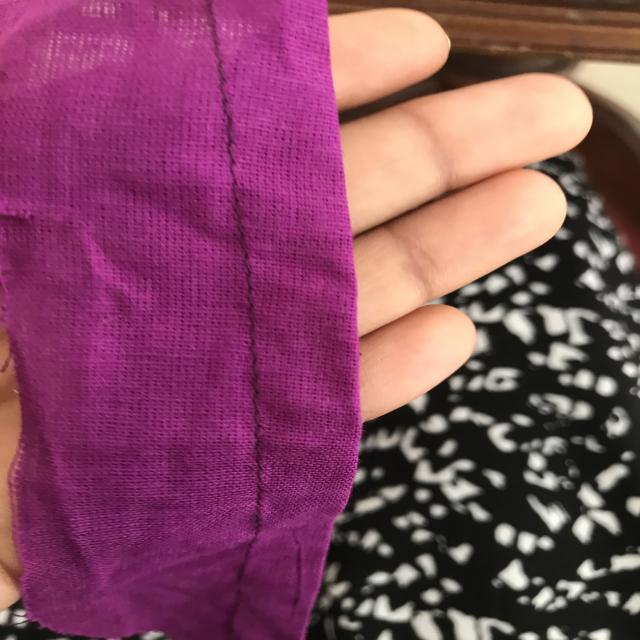good: (231, 298, 282, 408), (202, 88, 262, 176)
